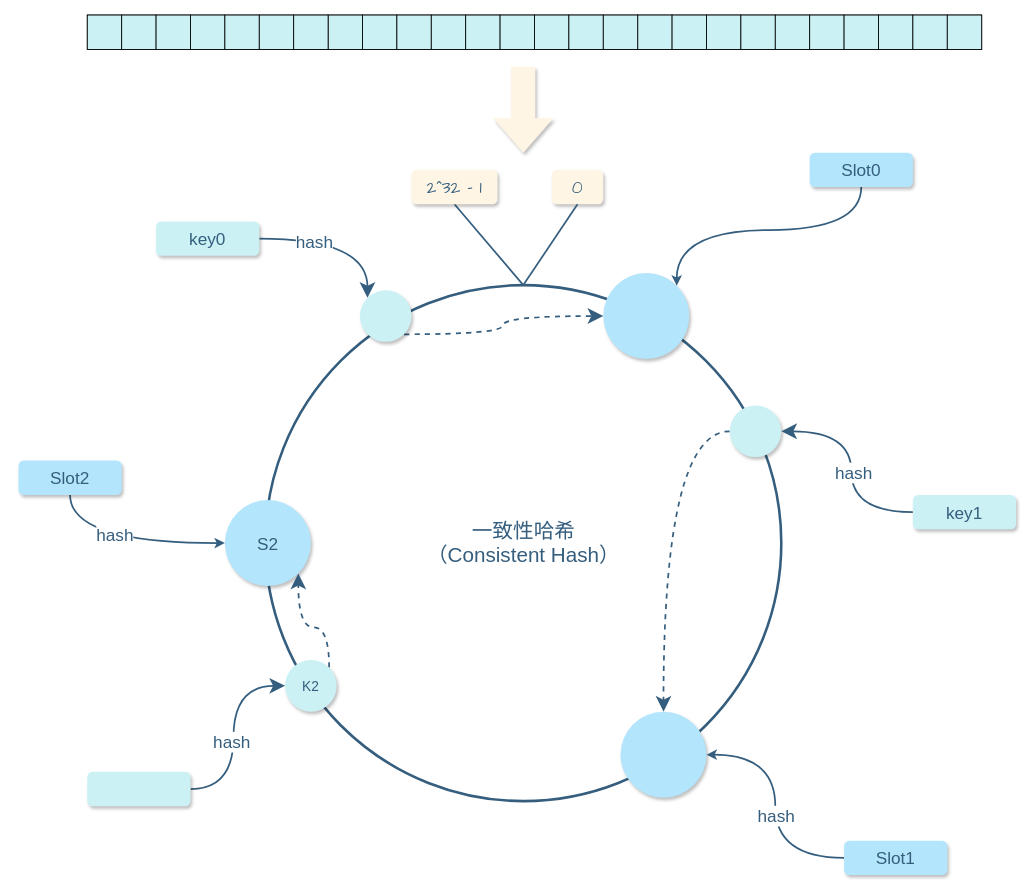
The diagram is 1035 pixels wide and 896 high, and some of its shapes have lost their labels. The centre of each missing label's shape, as x and y in pixels:
"K0" goes at [386,316].
"K1" goes at [756,432].
"key2" goes at [139,790].
"S0" goes at [646,317].
"S1" goes at [664,755].
